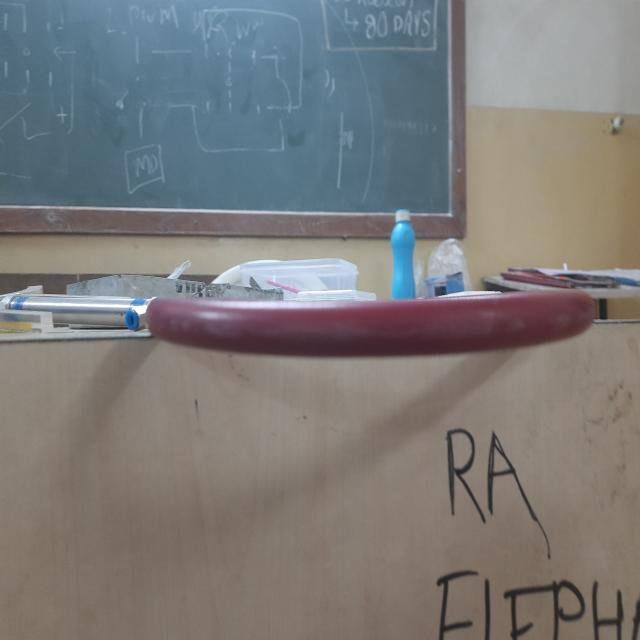daire: (159, 291, 576, 355)
